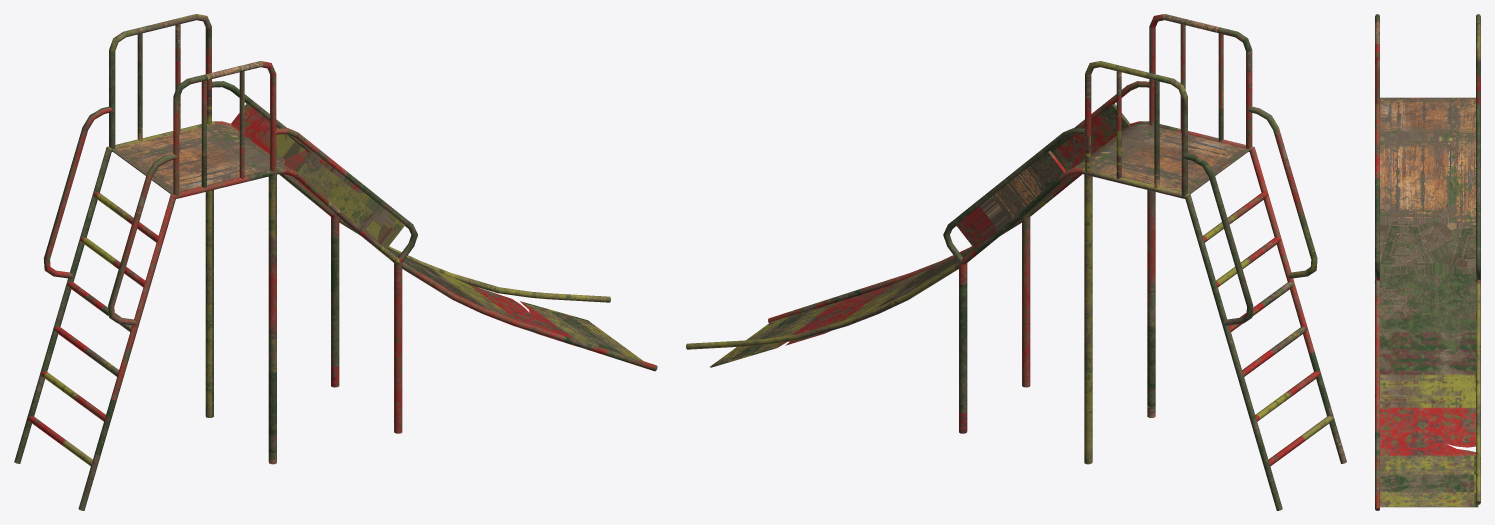
The model's file is playground 2,1.fbx.
The picture shows the model from 3 angles, left to right: view 1: azimuth 30°, elevation 25°; view 2: azimuth 150°, elevation 25°; view 3: azimuth 270°, elevation 25°; orthographic projection. The views are drawn at different scales.
Visible parts, largest first — view 1: taman 4_LOD0; view 2: taman 4_LOD0; view 3: taman 4_LOD0.
Boxes of the visible parts, <box> form: taman 4_LOD0: <box>14,14,657,510</box>; taman 4_LOD0: <box>686,14,1346,510</box>; taman 4_LOD0: <box>1375,14,1480,510</box>.
Size of what is drawn, in the model's own units: 321 by 209 by 63.02.
